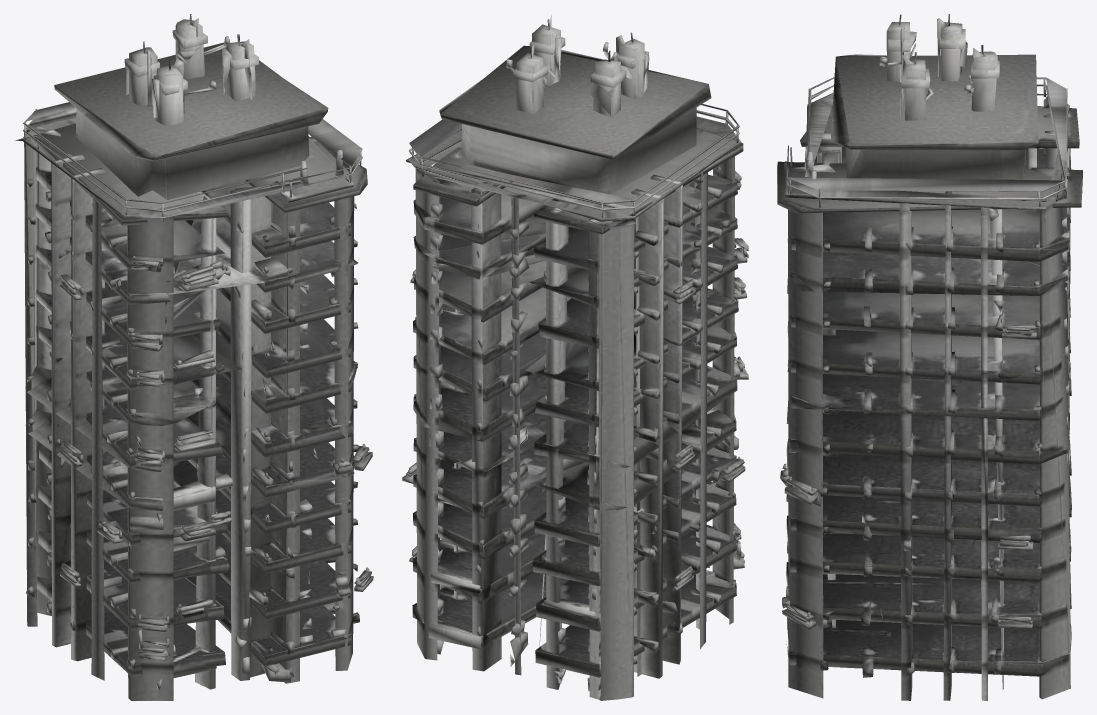
File: bld_apart.glb
The picture shows the model from 3 angles, left to right: view 1: azimuth 30°, elevation 25°; view 2: azimuth 150°, elevation 25°; view 3: azimuth 270°, elevation 25°; orthographic projection. The views are drawn at different scales.
Bounding box in the file's own units: 0.4399 × 1 × 0.4532.
Materials: 1 (1 with a texture image).
